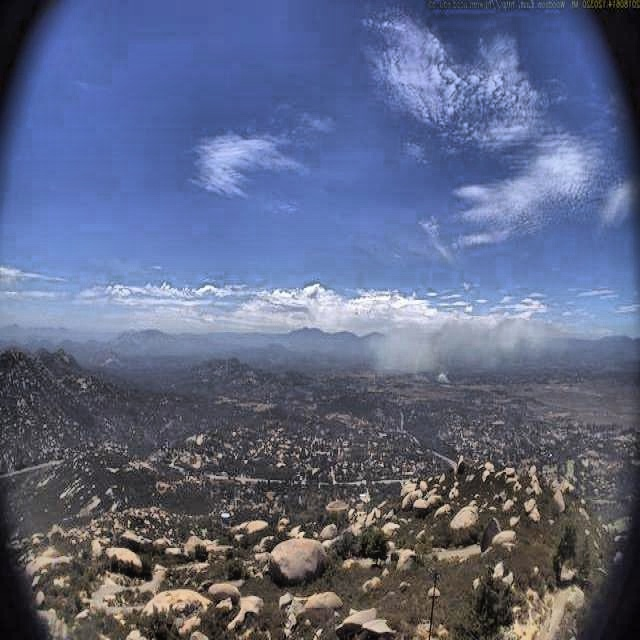smoke: (377, 305, 565, 387)
